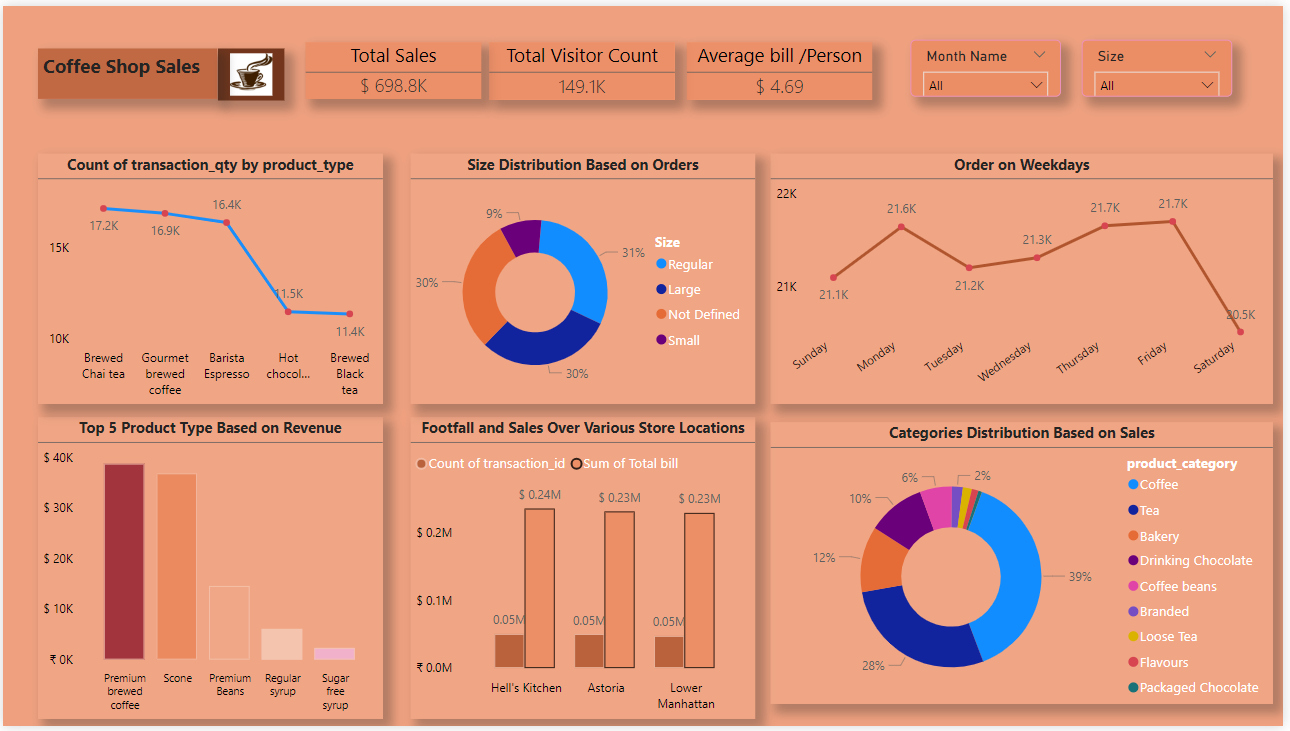

What the dashboard file says about the page in this screenshot:
{"tool":"powerbi","page":{"name":"Page 1","canvas":[1280,720],"ordinal":0},"visuals":[{"type":"clusteredColumnChart","title":"Footfall and Sales Over Various Store Locations","fields":{"Category":["Transactions.store_location"],"Y":["CountNonNull(Transactions.transaction_id)","Sum(Transactions.Total bill)"]},"box":[407.2,410.8,344.6,301.2],"z":0},{"type":"lineChart","title":"Order on Weekdays","fields":{"Category":["Transactions.Day Name"],"Y":["CountNonNull(Transactions.transaction_id)"]},"box":[767.5,147,502.4,250.6],"z":1000},{"type":"donutChart","title":"Size Distribution Based on Orders","fields":{"Category":["Transactions.SIze"],"Y":["CountNonNull(Transactions.transaction_qty)"]},"box":[407.2,147,344.6,250.6],"z":2000},{"type":"pieChart","title":"Categories Distribution Based on Sales","fields":{"Category":["Transactions.product_category"],"Y":["Sum(Transactions.Total bill)"]},"box":[767.5,415.7,502.4,281.9],"z":3000},{"type":"clusteredColumnChart","title":"Top 5 Product Type Based on Revenue","fields":{"Category":["Transactions.product_type"],"Y":["Sum(Transactions.Total bill)"]},"box":[34.9,410.8,344.6,301.2],"z":4000},{"type":"image","box":[214.5,42.2,66.3,51.8],"z":5000},{"type":"textbox","box":[34.9,42.2,179.5,50.6],"z":6000},{"type":"slicer","fields":{"Values":["Transactions.Month Name"]},"box":[907.2,33.7,150.6,56.6],"z":7000},{"type":"slicer","fields":{"Values":["Transactions.Size"]},"box":[1078.3,33.7,150,57],"z":8000},{"type":"card","title":"Total Sales","fields":{"Values":["Sum(Transactions.Total bill)"]},"box":[302.4,36.1,175.9,56.6],"z":9000},{"type":"card","title":"Total Visitor Count","fields":{"Values":["CountNonNull(Transactions.transaction_qty)"]},"box":[486.7,36.1,185.5,57.8],"z":10000},{"type":"card","title":"Average bill /Person","fields":{"Values":["Avg(Transactions.Total bill)"]},"box":[684.3,36.1,185.5,57.8],"z":11000},{"type":"lineChart","fields":{"Category":["Transactions.product_type"],"Y":["CountNonNull(Transactions.transaction_qty)"]},"box":[34.9,147,344.6,250.6],"z":11001}]}

Visuals, with their boxes in screenshot pixels (x1, y1, x2, y2), scaled from the page's 1280x720 canvas onto the 1290x731 screenshot:
"Footfall and Sales Over Various Store Locations" clusteredColumnChart: detection(410, 417, 758, 723)
"Order on Weekdays" lineChart: detection(773, 149, 1280, 404)
"Size Distribution Based on Orders" donutChart: detection(410, 149, 758, 404)
"Categories Distribution Based on Sales" pieChart: detection(773, 422, 1280, 708)
"Top 5 Product Type Based on Revenue" clusteredColumnChart: detection(35, 417, 382, 723)
image: detection(216, 43, 283, 95)
textbox: detection(35, 43, 216, 94)
slicer - Transactions.Month Name: detection(914, 34, 1066, 92)
slicer - Transactions.Size: detection(1087, 34, 1238, 92)
"Total Sales" card: detection(305, 37, 482, 94)
"Total Visitor Count" card: detection(491, 37, 677, 95)
"Average bill /Person" card: detection(690, 37, 877, 95)
lineChart - Transactions.product_type x CountNonNull(Transactions.transaction_qty): detection(35, 149, 382, 404)
